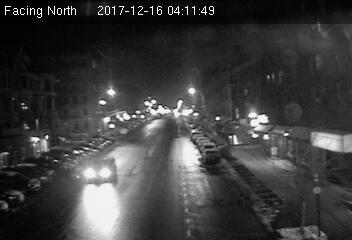car: (83, 156, 117, 181), (201, 149, 221, 162)
